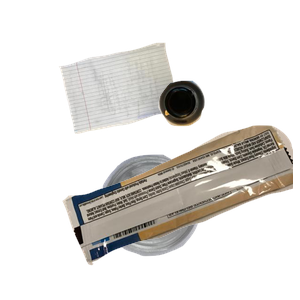glass: (156, 78, 300, 197)
paper: (56, 40, 229, 166)
plastic: (100, 152, 293, 300)
trash: (60, 123, 300, 300)
